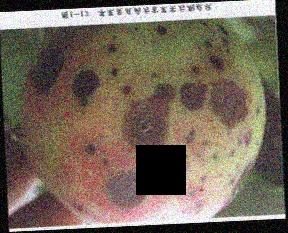rotten apple: (4, 24, 266, 213)
